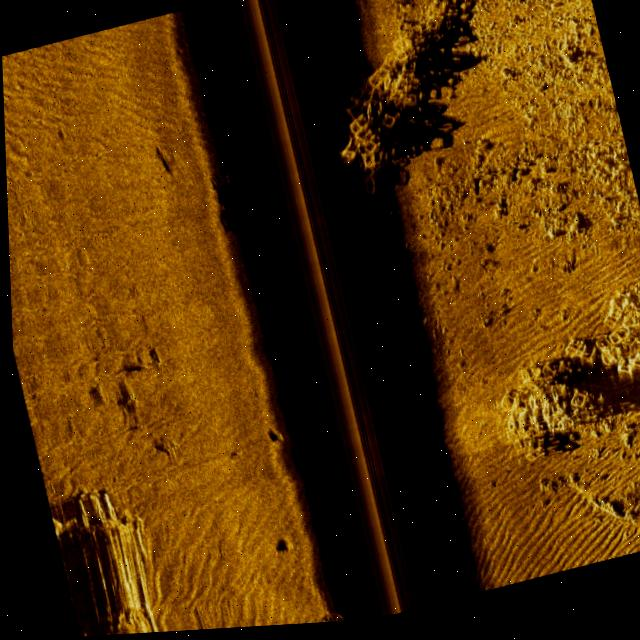artificial reef: (310, 0, 500, 211), (482, 284, 640, 452), (207, 137, 282, 259), (309, 597, 358, 626)
